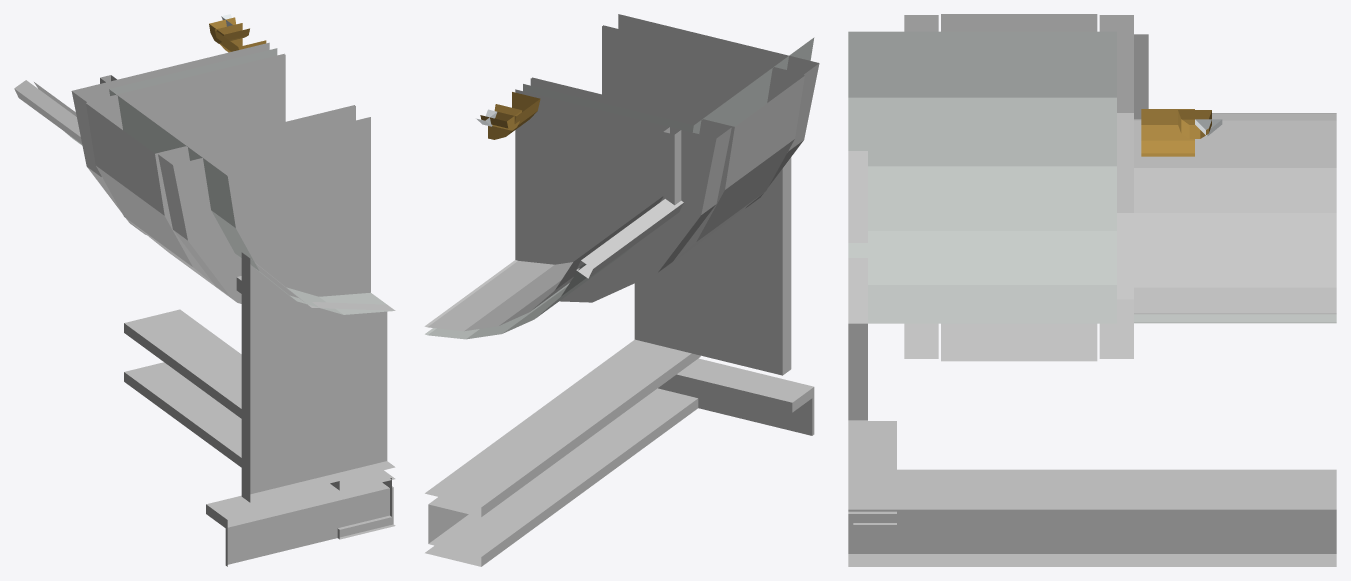
Rendered from cell_55.obj.
3 views of the same model, side by side, from view 1: azimuth 30°, elevation 25°; view 2: azimuth 150°, elevation 25°; view 3: azimuth 270°, elevation 25° (orthographic). The views are drawn at different scales.
Size of the model in its own units: 0.535 by 1 by 1.
